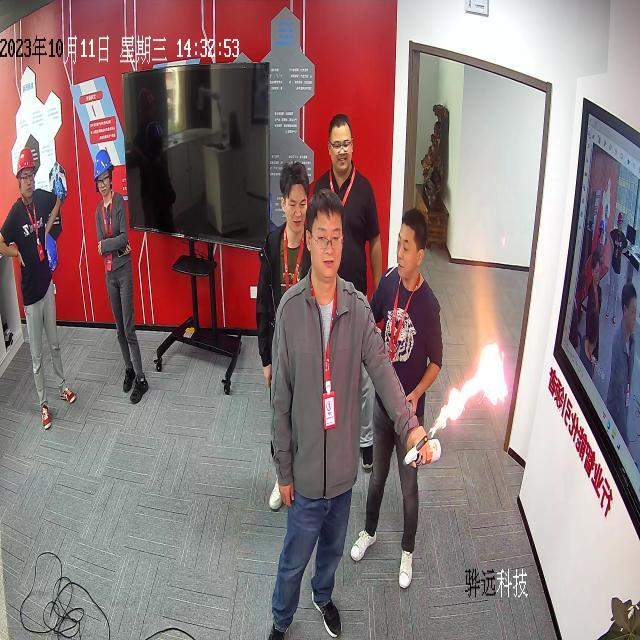Fire: (432, 342, 508, 438)
